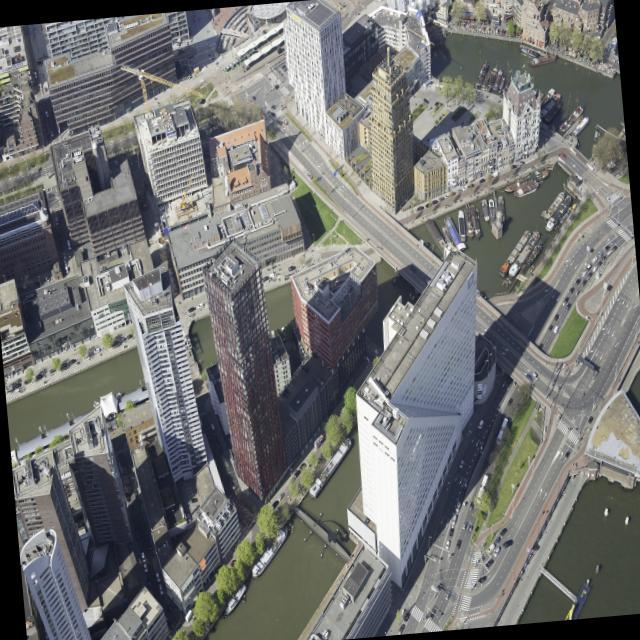large-vehicle: (224, 48, 255, 74), (476, 472, 490, 504), (495, 417, 509, 445), (312, 432, 325, 449), (179, 197, 193, 212)
ship: (307, 435, 353, 501), (249, 523, 291, 582), (507, 224, 543, 278), (497, 227, 533, 278), (502, 167, 550, 196), (423, 215, 451, 261), (544, 193, 573, 234), (222, 582, 248, 618), (443, 214, 466, 253), (558, 103, 585, 135), (543, 190, 566, 220), (538, 91, 562, 119), (512, 179, 540, 199), (535, 87, 556, 112), (543, 99, 563, 123), (440, 224, 456, 254), (570, 115, 591, 137), (502, 70, 519, 97), (524, 242, 543, 266), (469, 204, 482, 238), (530, 52, 558, 67), (475, 59, 489, 87), (528, 92, 544, 113), (463, 208, 474, 238), (486, 67, 498, 93), (524, 88, 538, 107), (458, 209, 466, 241), (492, 68, 503, 91), (518, 45, 539, 57), (481, 197, 490, 222), (488, 199, 496, 226), (497, 72, 507, 93), (498, 195, 505, 224), (481, 70, 491, 88), (559, 210, 569, 224), (289, 319, 297, 332), (270, 329, 278, 341), (284, 323, 291, 334), (281, 325, 288, 336), (475, 207, 479, 219), (540, 209, 546, 217), (596, 131, 601, 140), (566, 206, 571, 213), (506, 277, 511, 284), (508, 275, 512, 283), (543, 216, 547, 223), (288, 522, 291, 530), (290, 524, 293, 532), (480, 209, 483, 216), (465, 229, 468, 236), (242, 595, 245, 602), (554, 224, 558, 229), (538, 180, 543, 184), (556, 225, 559, 231)
small-vehicle: (184, 607, 194, 623), (486, 542, 495, 555), (502, 539, 512, 549), (166, 602, 174, 613), (234, 510, 242, 521), (485, 558, 493, 569), (293, 468, 301, 479), (403, 611, 410, 623), (493, 546, 500, 558), (167, 620, 175, 630), (271, 499, 279, 509), (425, 277, 433, 287), (499, 527, 507, 537), (316, 376, 324, 386), (455, 500, 461, 513), (429, 608, 436, 619), (5, 384, 13, 393), (468, 499, 474, 511), (478, 575, 486, 584), (300, 364, 308, 373), (531, 371, 539, 380), (277, 491, 284, 501), (191, 611, 198, 621), (477, 419, 484, 429), (552, 324, 559, 334), (363, 515, 370, 525), (299, 461, 306, 471), (43, 629, 49, 640), (140, 551, 146, 562), (158, 583, 164, 594), (455, 538, 461, 549), (451, 514, 457, 525), (448, 527, 454, 538), (398, 623, 404, 634), (269, 271, 277, 279), (525, 373, 533, 381), (570, 203, 577, 212), (229, 558, 236, 567), (486, 334, 493, 343), (458, 459, 465, 468), (161, 613, 168, 622), (305, 460, 312, 469), (125, 491, 130, 503), (155, 572, 161, 582), (444, 590, 450, 600), (460, 486, 466, 496), (444, 540, 450, 550), (568, 213, 574, 223), (23, 377, 30, 385), (196, 302, 204, 309), (261, 275, 269, 282), (123, 156, 131, 163), (287, 265, 295, 272), (591, 256, 598, 264), (311, 351, 318, 359), (284, 386, 291, 394), (66, 239, 71, 250), (135, 530, 140, 541), (144, 531, 149, 542), (147, 542, 152, 553), (146, 576, 151, 587), (128, 503, 133, 514), (230, 481, 236, 490), (461, 521, 467, 530), (493, 425, 499, 434), (537, 342, 543, 351), (565, 302, 571, 311), (553, 312, 559, 321), (587, 415, 593, 424), (494, 536, 500, 545), (289, 476, 295, 485), (507, 397, 513, 406), (117, 461, 122, 471), (186, 512, 191, 522), (213, 431, 218, 441), (218, 443, 223, 453), (43, 275, 50, 282), (21, 284, 28, 291), (68, 358, 75, 365), (48, 367, 55, 374), (13, 382, 20, 389), (93, 347, 100, 354), (510, 163, 517, 170), (111, 339, 118, 346), (187, 306, 194, 313), (478, 177, 485, 184), (437, 195, 444, 202), (409, 265, 416, 272), (422, 97, 429, 104), (609, 160, 616, 167), (46, 192, 54, 198), (424, 202, 432, 208), (326, 364, 332, 372), (547, 323, 553, 331), (563, 295, 569, 303), (564, 450, 570, 458), (560, 151, 566, 159), (606, 248, 612, 256), (581, 278, 587, 286), (575, 277, 581, 285), (586, 263, 592, 271), (54, 216, 59, 225), (143, 563, 148, 572), (149, 586, 154, 595), (133, 489, 138, 498), (210, 423, 215, 432), (227, 473, 232, 482), (467, 524, 472, 533), (483, 457, 488, 466), (17, 286, 23, 293), (59, 362, 66, 368), (35, 373, 41, 380), (468, 182, 474, 189), (126, 333, 132, 340), (518, 160, 525, 166), (610, 238, 616, 245), (604, 244, 610, 251), (598, 250, 604, 257), (612, 244, 618, 251), (99, 265, 106, 271), (190, 497, 197, 503), (176, 48, 183, 54), (461, 185, 468, 191), (417, 205, 424, 211), (431, 199, 438, 205), (171, 287, 177, 294), (574, 289, 580, 296), (282, 390, 288, 397), (587, 271, 593, 278), (581, 270, 587, 277), (64, 265, 69, 273), (198, 419, 203, 427), (569, 286, 574, 294), (34, 280, 40, 286), (120, 472, 124, 481), (119, 337, 125, 343), (187, 53, 193, 59), (136, 498, 140, 507), (201, 125, 207, 131), (456, 188, 462, 194), (170, 283, 176, 289), (167, 270, 173, 276), (444, 193, 450, 199), (200, 427, 205, 434), (592, 265, 597, 272), (575, 198, 580, 205), (59, 238, 63, 246), (106, 249, 110, 257), (99, 252, 103, 260), (42, 187, 48, 192), (209, 122, 214, 128), (221, 124, 227, 129), (217, 115, 223, 120), (283, 66, 288, 72), (277, 119, 282, 125), (270, 111, 275, 117), (607, 163, 613, 168), (165, 265, 171, 270), (283, 120, 288, 126), (601, 254, 606, 260), (434, 100, 439, 106), (280, 64, 286, 69), (597, 260, 602, 266), (45, 110, 49, 117), (58, 212, 62, 219), (58, 230, 62, 237), (62, 252, 66, 259), (63, 259, 67, 266), (95, 254, 99, 261), (622, 163, 627, 168), (487, 174, 492, 179), (450, 191, 455, 196), (45, 123, 48, 131), (50, 131, 54, 137), (61, 246, 65, 252), (34, 71, 37, 78), (44, 86, 47, 92), (83, 248, 86, 254)
